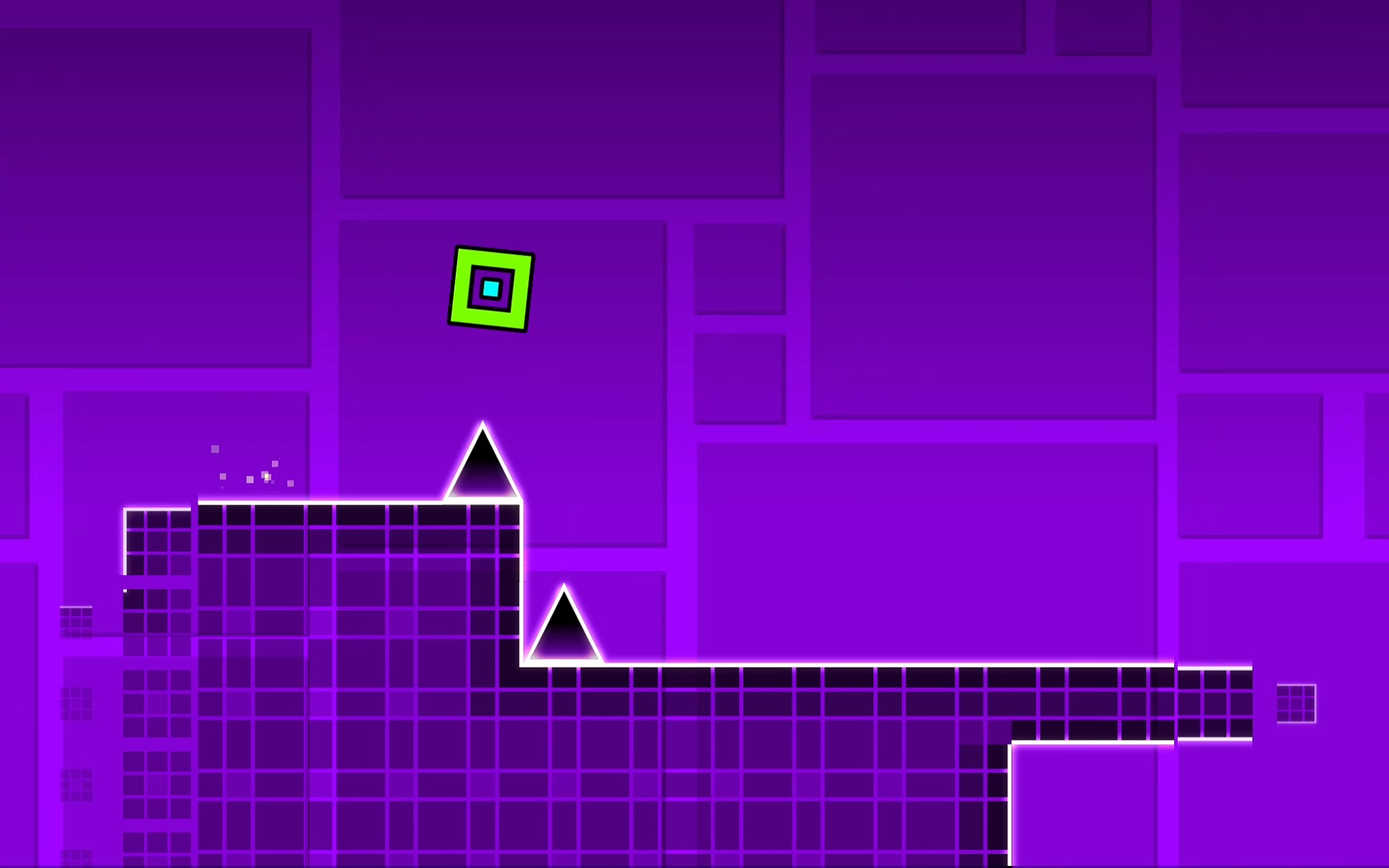Block2: (128, 504, 519, 868), (524, 668, 1003, 868), (1007, 663, 1254, 741)
Player: (449, 248, 533, 331)
Spike: (443, 421, 522, 502), (525, 584, 603, 663)
